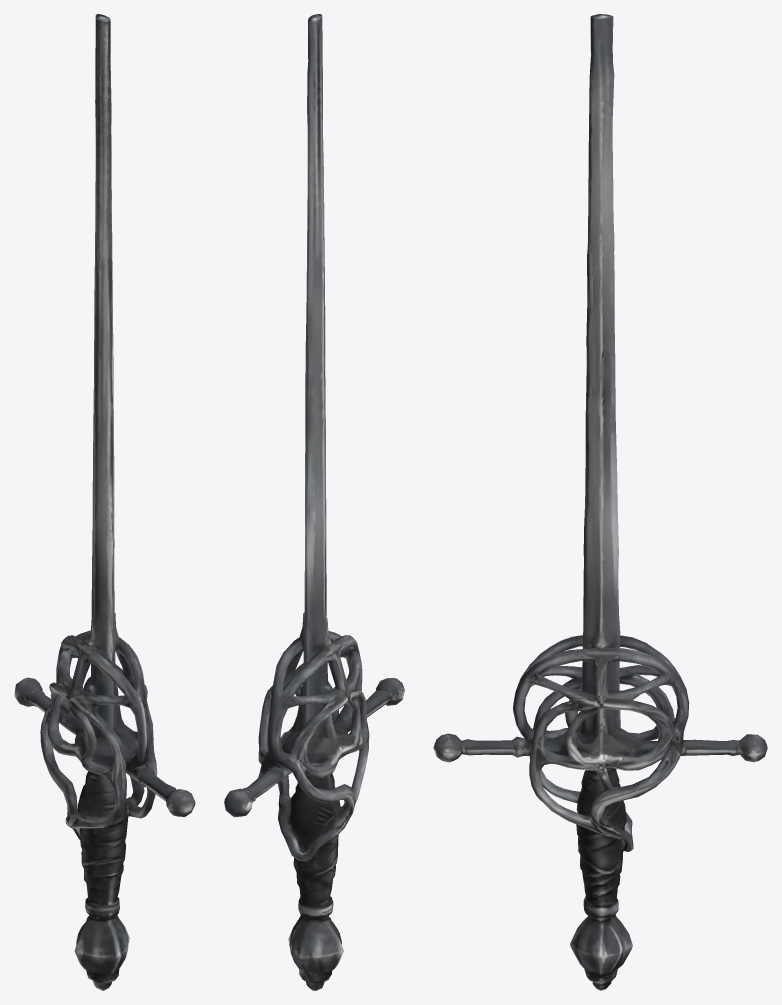
Rendered from swept_rapier.glb.
3 renders of one model, left to right at view 1: azimuth 30°, elevation 25°; view 2: azimuth 150°, elevation 25°; view 3: azimuth 270°, elevation 25°, orthographic.
Parts seen in each view (by area): view 1: swept_rapier; view 2: swept_rapier; view 3: swept_rapier.
Part boxes in pixels (x1,y1,x2,y2): swept_rapier: (14, 14, 195, 990); swept_rapier: (224, 14, 404, 990); swept_rapier: (433, 14, 767, 990).
Size of the model in its own units: 0.0543 by 0.6859 by 0.2135.
Materials: 1 (1 with a texture image).
